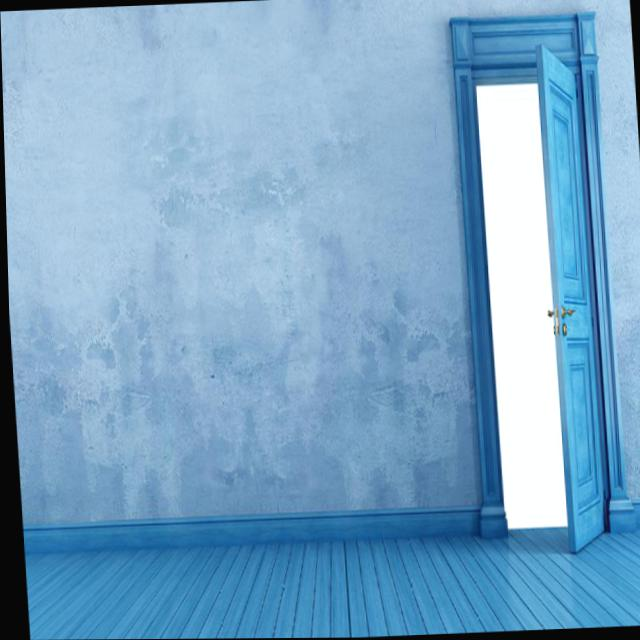semi-open: (438, 3, 634, 563)
